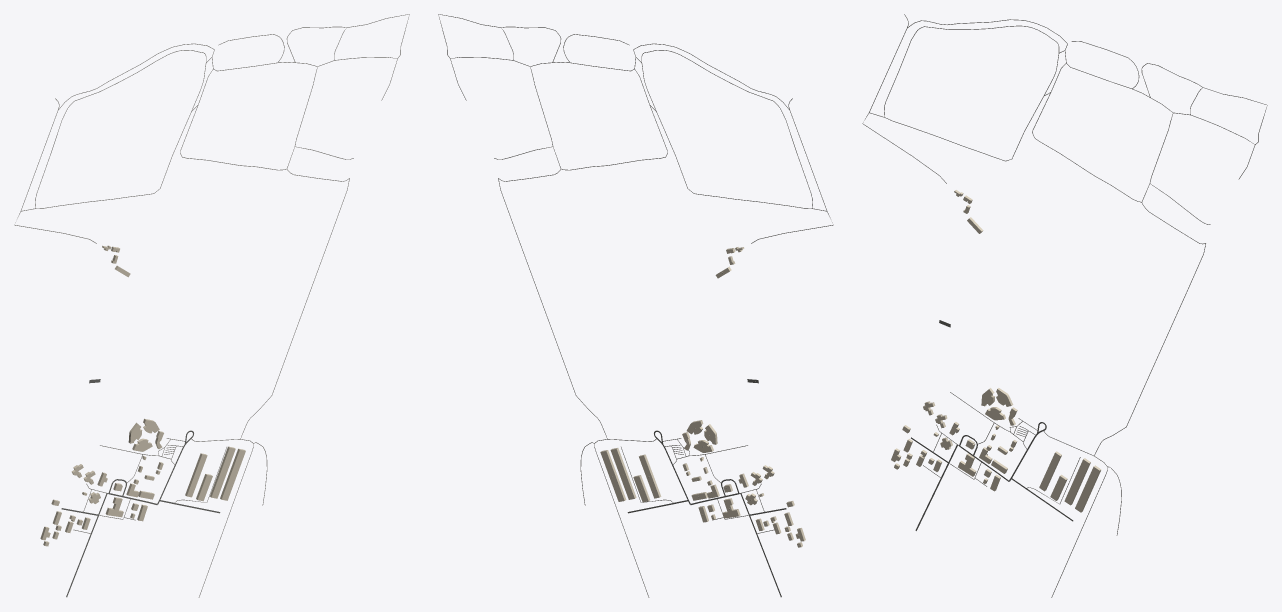
Rendered from historic-palestine-12_31_3543_3252.glb.
The picture shows the model from 3 angles, left to right: view 1: azimuth 30°, elevation 25°; view 2: azimuth 150°, elevation 25°; view 3: azimuth 330°, elevation 25°; orthographic projection. The views are drawn at different scales.
Bounding box in the file's own units: 1026 × 1382 × 8.7.
